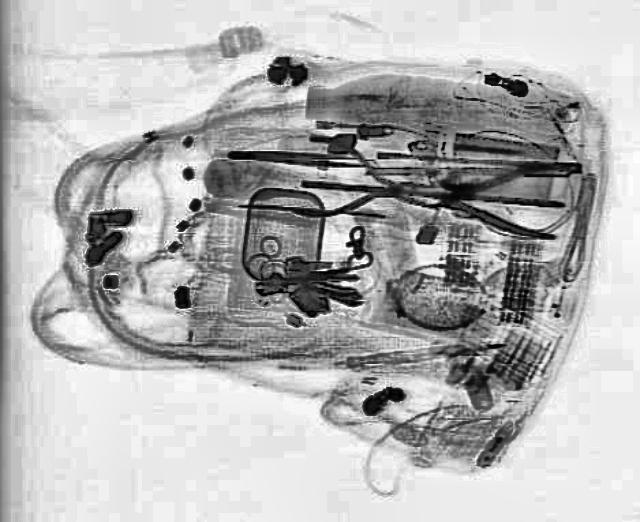Pliers: (288, 132, 438, 230), (424, 156, 568, 238)
